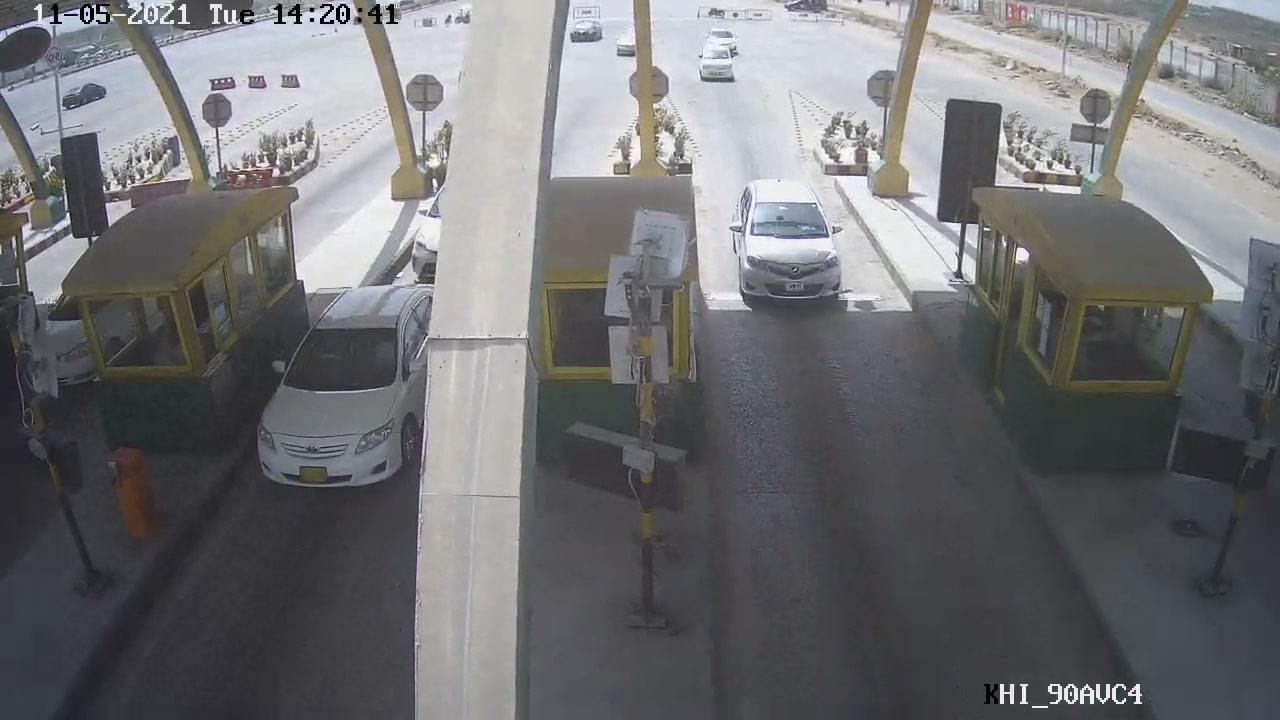F1: (718, 167, 854, 311)
